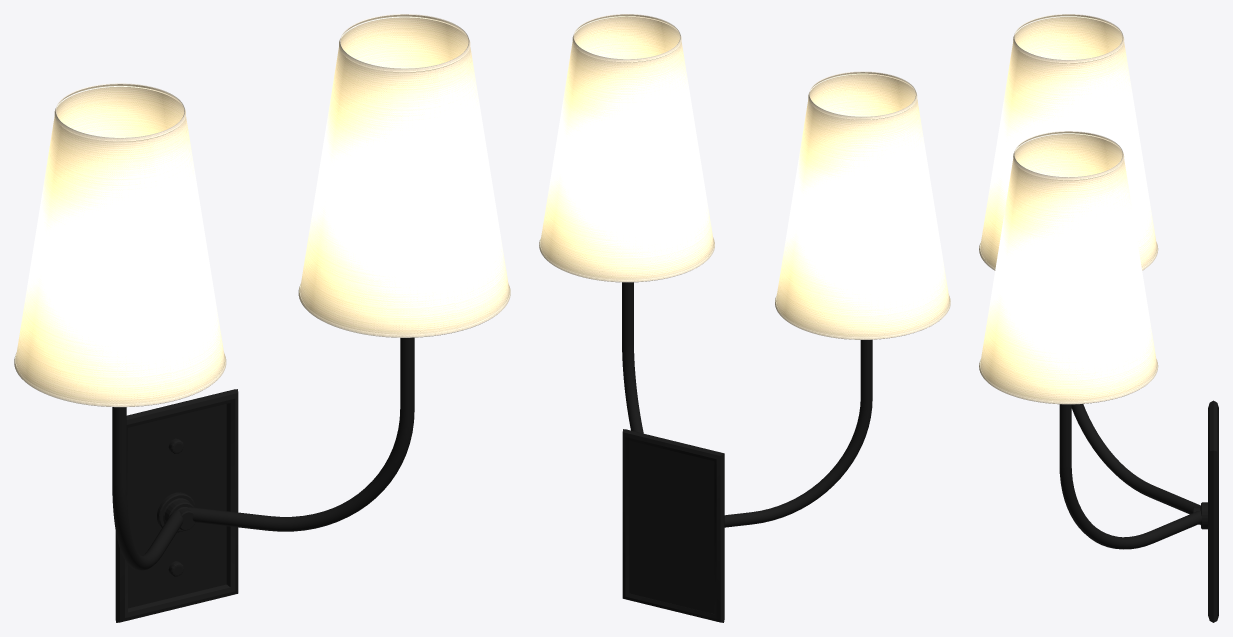
The model's file is CGT_Wall-Light_01_001.fbx.
3 views of the same model, side by side, from view 1: azimuth 30°, elevation 25°; view 2: azimuth 150°, elevation 25°; view 3: azimuth 270°, elevation 25° (orthographic). The views are drawn at different scales.
Visible parts, largest first — view 1: CGT_Wall-Light_01_001; view 2: CGT_Wall-Light_01_001; view 3: CGT_Wall-Light_01_001.
Part boxes in pixels (left/top/right/bottom): CGT_Wall-Light_01_001: left=14, top=14, right=510, bottom=622; CGT_Wall-Light_01_001: left=539, top=14, right=950, bottom=622; CGT_Wall-Light_01_001: left=979, top=14, right=1218, bottom=622.
Size of the model in its own units: 50.86 by 26.73 by 61.76.
Materials: 3 (1 with a texture image).
